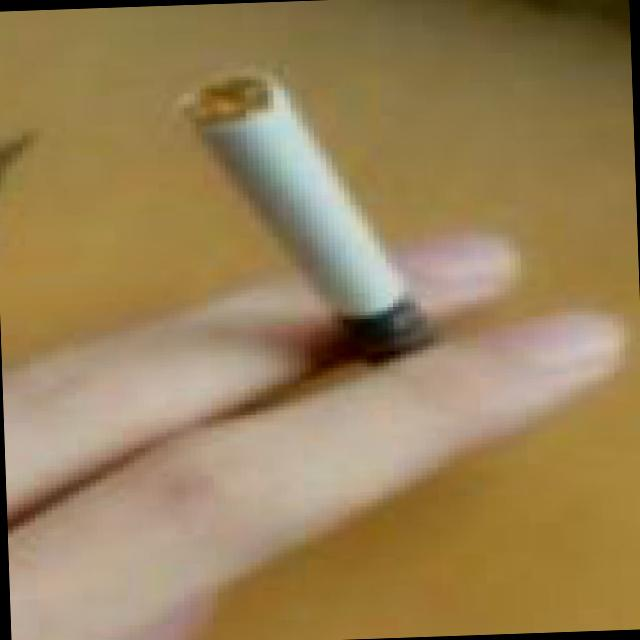cigarette: (124, 33, 478, 406)
